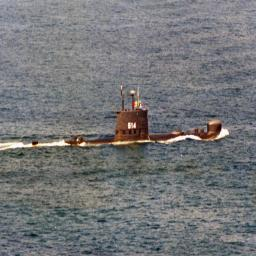submarine: (31, 81, 223, 148)
